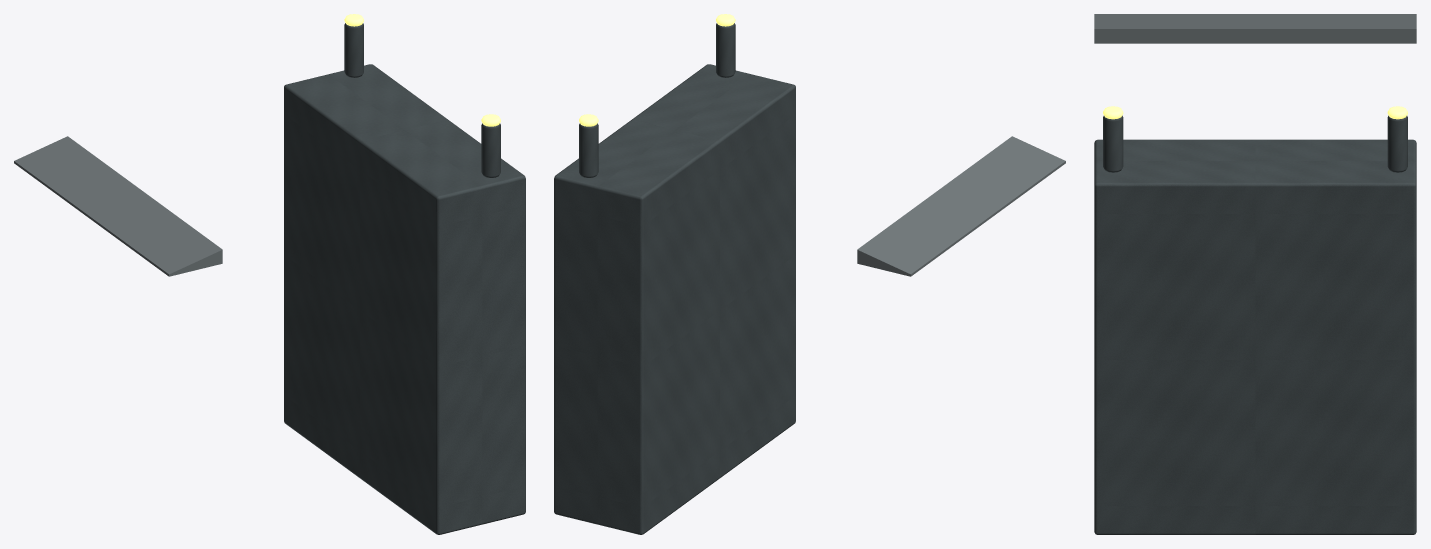
Rendered from bridge-end.50920a684920.glb.
The picture shows the model from 3 angles, left to right: view 1: azimuth 30°, elevation 25°; view 2: azimuth 150°, elevation 25°; view 3: azimuth 270°, elevation 25°; orthographic projection. The views are drawn at different scales.
Visible parts, largest first — view 1: MF_Bridge_End__structure_graphite_joints, MF_Bridge_End__court_weathered_basalt; view 2: MF_Bridge_End__structure_graphite_joints, MF_Bridge_End__court_weathered_basalt; view 3: MF_Bridge_End__structure_graphite_joints, MF_Bridge_End__court_weathered_basalt, MF_Bridge_End__practical_warm_strip.
Boxes of the visible parts, x1,y1,x2,y2 form: MF_Bridge_End__structure_graphite_joints: (284,23,525,534); MF_Bridge_End__court_weathered_basalt: (14,136,222,276); MF_Bridge_End__structure_graphite_joints: (554,23,795,534); MF_Bridge_End__court_weathered_basalt: (857,136,1065,276); MF_Bridge_End__structure_graphite_joints: (1094,115,1416,534); MF_Bridge_End__court_weathered_basalt: (1094,14,1416,43); MF_Bridge_End__practical_warm_strip: (1103,106,1407,119).
Size of the model in its own units: 8 by 8.49 by 6.
Materials: 3 (2 with a texture image).
